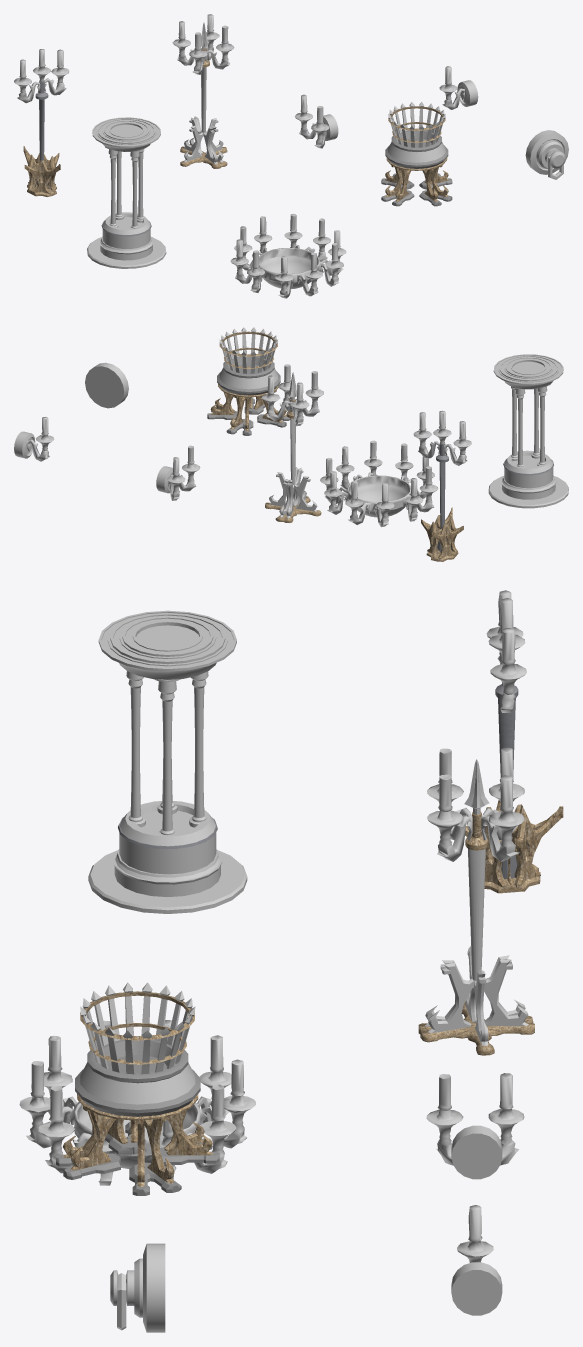
Rendered from DecoAssets01.FBX.
The picture shows the model from 3 angles, top to bottom: view 1: azimuth 30°, elevation 25°; view 2: azimuth 150°, elevation 25°; view 3: azimuth 270°, elevation 25°; orthographic projection. The views are drawn at different scales.
Parts seen in each view (by area): view 1: FD_Lamp00, Cylinder006, FD_FloorCandle, FD_FloorCandle00, FD_CandleHolder00, DF_ChainHolder, Cylinder012, FD_CandleHolder01, Cylinder014, FD_Candle01, FD_Candle00, Cylinder015 (+8 smaller); view 2: FD_Lamp00, Cylinder006, FD_FloorCandle, FD_FloorCandle00, FD_CandleHolder00, DF_ChainHolder, Cylinder012, FD_CandleHolder01, Cylinder014, FD_Candle01, Cylinder015, FD_Candle00 (+9 smaller); view 3: Cylinder006, FD_FloorCandle, FD_Lamp00, FD_FloorCandle00, Cylinder012, FD_CandleHolder00, DF_ChainHolder, Cylinder014, FD_Candle01, FD_CandleHolder01, Cylinder013, DF_ChainHolder001 (+9 smaller).
Part boxes in pixels (bbox=[...]): FD_Lamp00: bbox=[230, 213, 346, 298]; Cylinder006: bbox=[385, 102, 448, 168]; FD_FloorCandle: bbox=[87, 212, 166, 268]; FD_FloorCandle00: bbox=[92, 117, 160, 151]; FD_CandleHolder00: bbox=[172, 14, 234, 74]; DF_ChainHolder: bbox=[525, 130, 568, 174]; Cylinder012: bbox=[180, 116, 227, 168]; FD_CandleHolder01: bbox=[14, 49, 69, 103]; Cylinder014: bbox=[23, 146, 60, 196]; FD_Candle01: bbox=[295, 94, 329, 148]; FD_Candle00: bbox=[439, 66, 464, 109]; Cylinder015: bbox=[35, 81, 48, 185]; FD_Lamp00: bbox=[320, 440, 437, 527]; Cylinder006: bbox=[217, 327, 280, 395]; FD_FloorCandle: bbox=[488, 450, 568, 508]; FD_FloorCandle00: bbox=[493, 354, 563, 389]; FD_CandleHolder00: bbox=[261, 364, 323, 426]; DF_ChainHolder: bbox=[85, 362, 128, 408]; Cylinder012: bbox=[265, 467, 321, 522]; FD_CandleHolder01: bbox=[413, 410, 471, 465]; Cylinder014: bbox=[421, 507, 463, 561]; FD_Candle01: bbox=[167, 445, 200, 500]; Cylinder015: bbox=[436, 443, 448, 552]; FD_Candle00: bbox=[27, 417, 54, 461]; Cylinder006: bbox=[75, 982, 200, 1116]; FD_FloorCandle: bbox=[88, 801, 247, 913]; FD_Lamp00: bbox=[19, 1020, 255, 1185]; FD_FloorCandle00: bbox=[98, 610, 236, 679]; Cylinder012: bbox=[418, 946, 534, 1055]; FD_CandleHolder00: bbox=[427, 747, 524, 861]; DF_ChainHolder: bbox=[110, 1243, 165, 1332]; Cylinder014: bbox=[454, 800, 563, 893]; FD_Candle01: bbox=[426, 1073, 524, 1165]; FD_CandleHolder01: bbox=[486, 590, 526, 713]; Cylinder013: bbox=[465, 812, 488, 980]; DF_ChainHolder001: bbox=[451, 1125, 502, 1179].
Size of the model in its own units: 61.89 by 26.62 by 30.92.
